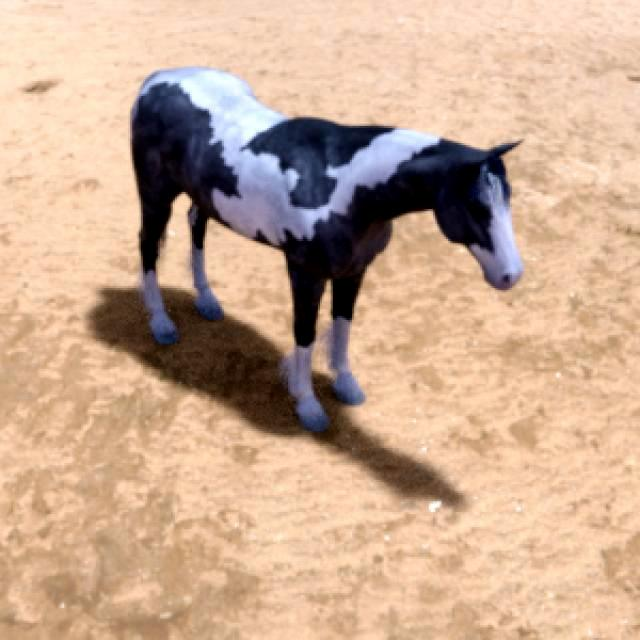horse: (131, 71, 524, 429)
